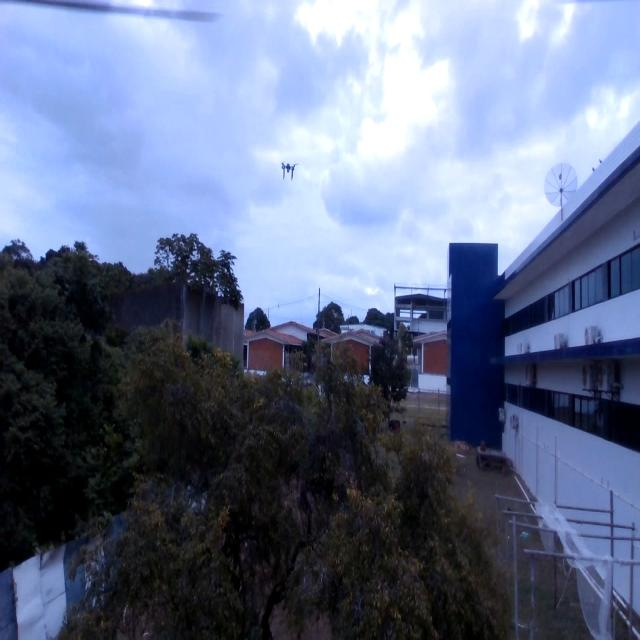-uav-: (276, 153, 298, 191)
